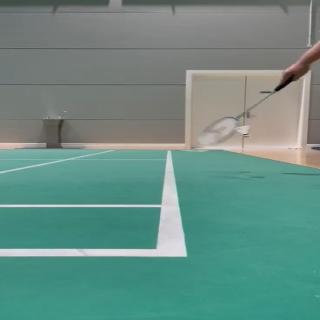Shuttle: (235, 125, 251, 138)
